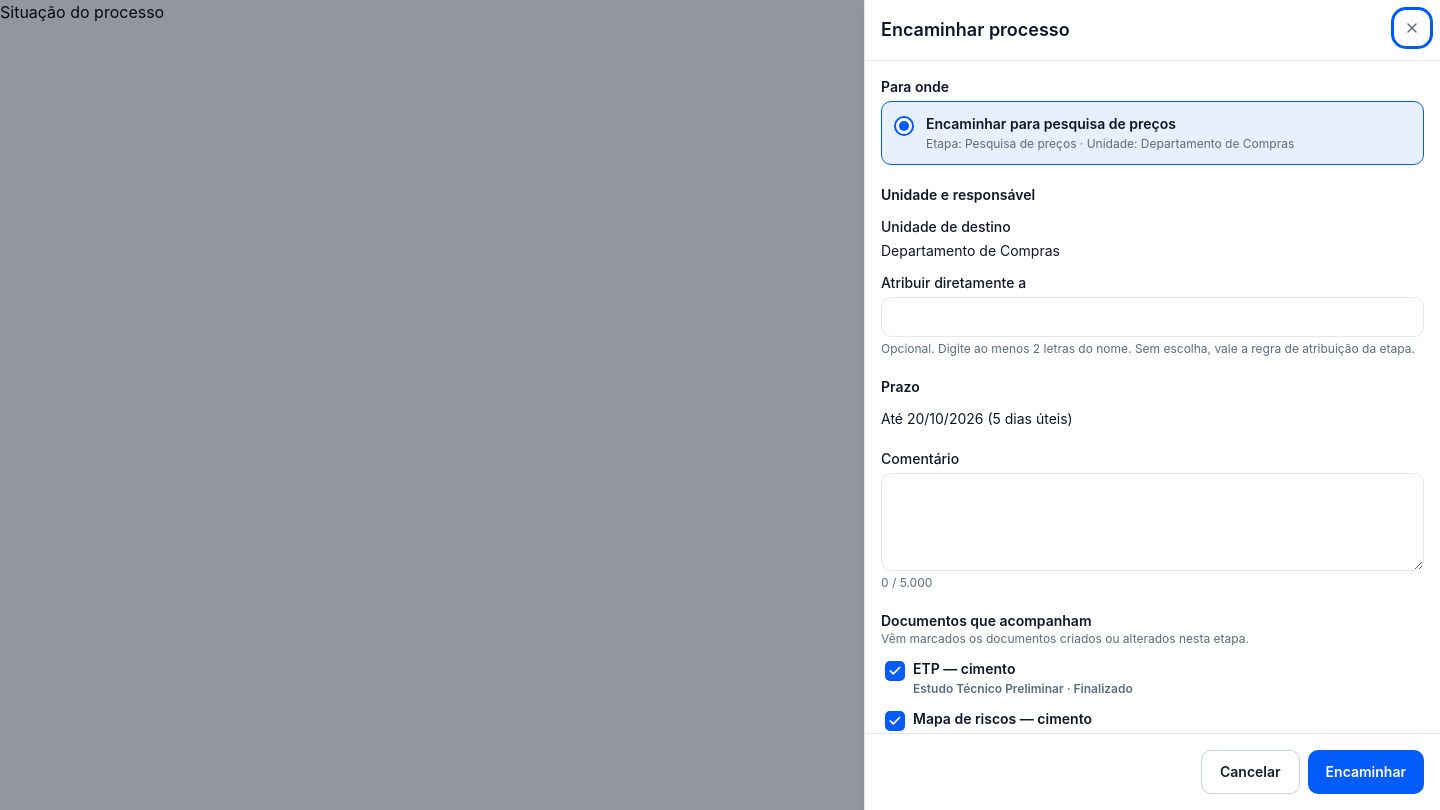
Test: SCR-103 · Painel "Encaminhar processo" (US-047) › [FA-07] autuação no 1º encaminhamento: o toast informa o número do processo
Click the button "Encaminhar" at (1366,772), box [1308,750,1424,794]
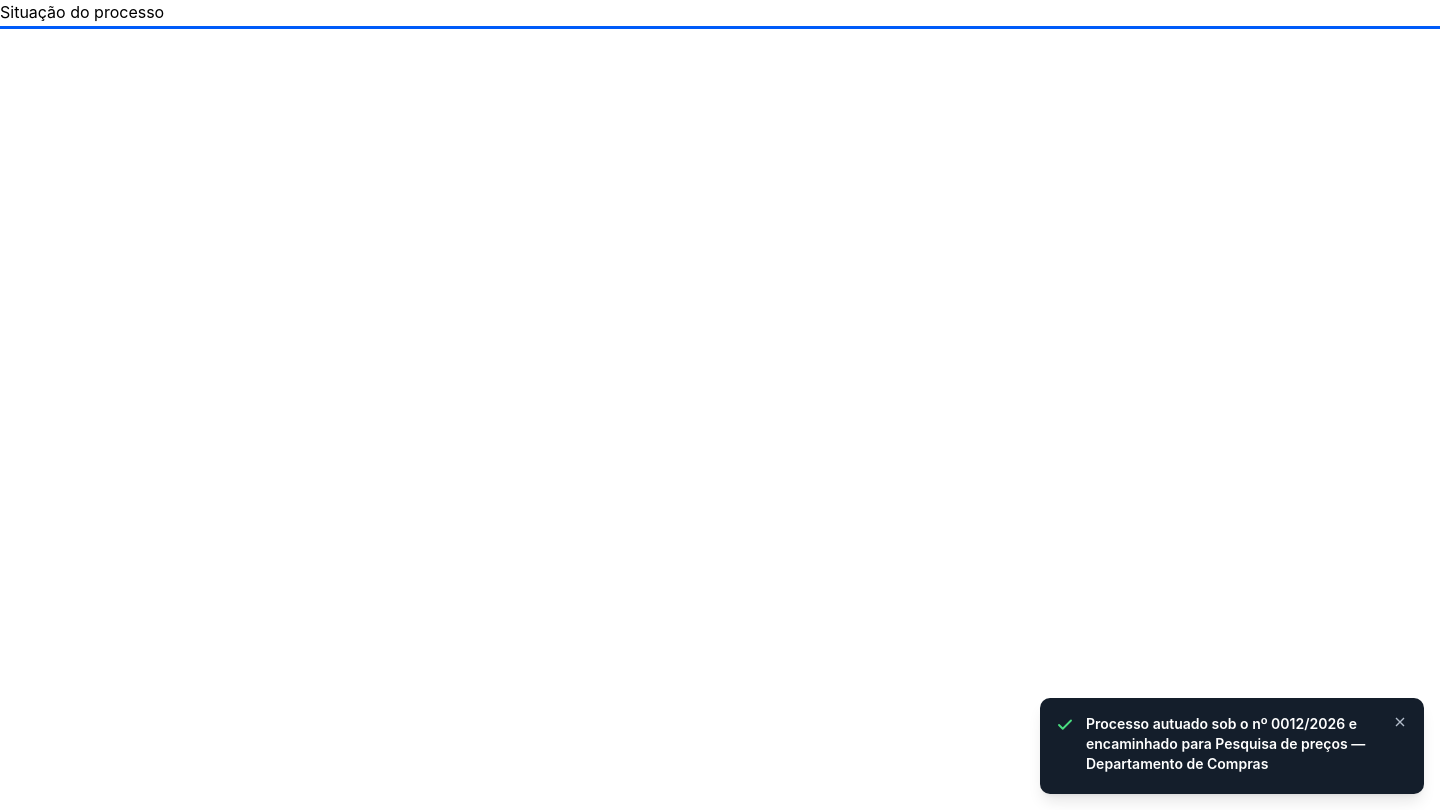
Now the text "Processo autuado sob o nº 0012/2026 e encaminhado para Pesquisa de preços — Departamento de Compras" is shown, box [1086,715,1365,772]
